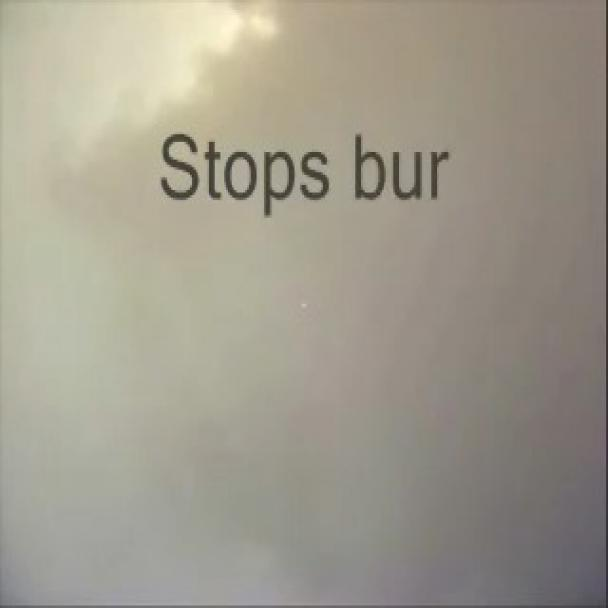smoke: (4, 8, 606, 606)
